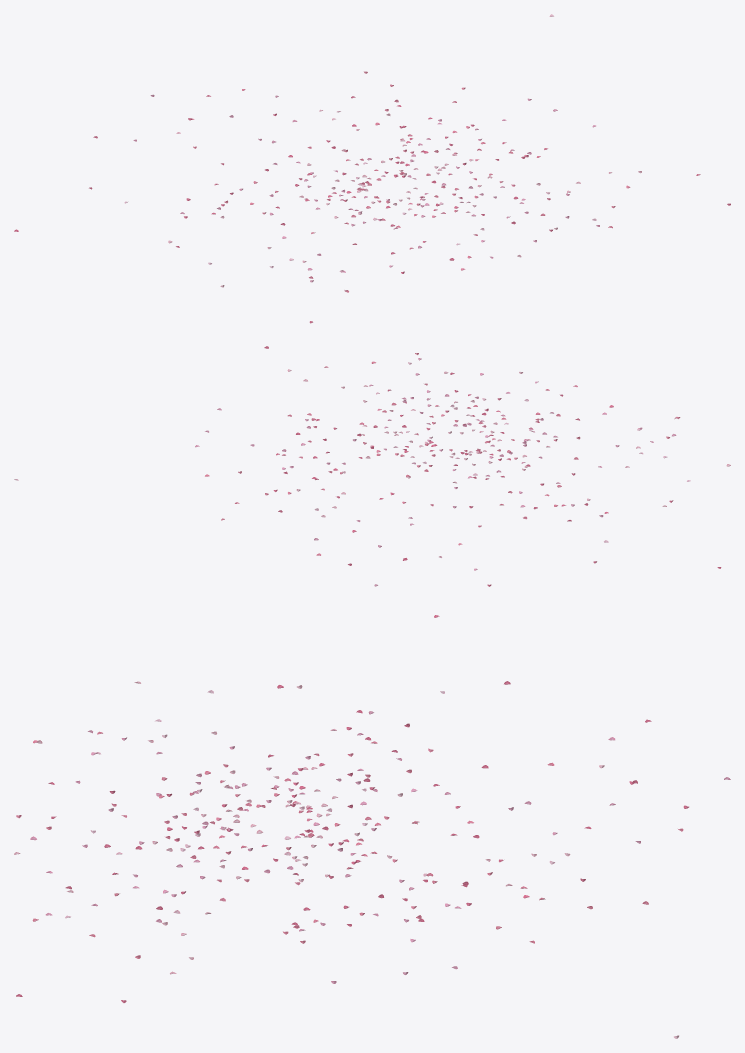
Rendered from SM_PetalsGround.fbx.
The picture shows the model from 3 angles, top to bottom: view 1: azimuth 30°, elevation 25°; view 2: azimuth 150°, elevation 25°; view 3: azimuth 270°, elevation 25°; orthographic projection. The views are drawn at different scales.
Visible parts, largest first — view 1: SM_PetalsGround; view 2: SM_PetalsGround; view 3: SM_PetalsGround.
Boxes of the visible parts, x1=… form: SM_PetalsGround: x1=14, y1=14, x2=730, y2=292; SM_PetalsGround: x1=14, y1=321, x2=730, y2=586; SM_PetalsGround: x1=14, y1=615, x2=730, y2=1038.
Bounding box in the file's own units: 444 × 6.19 × 318.
